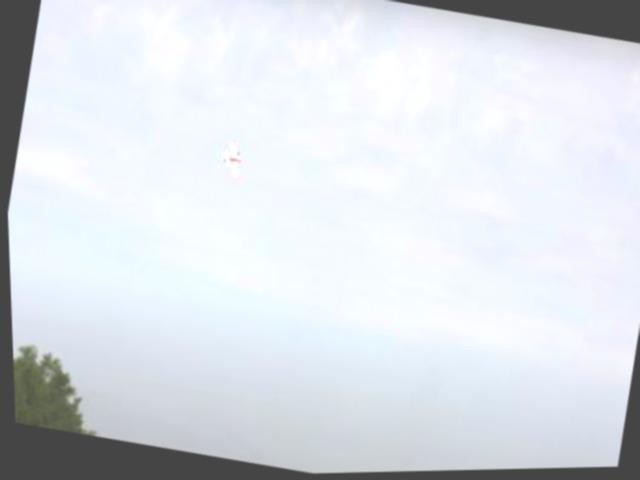uav: (215, 134, 251, 184)
